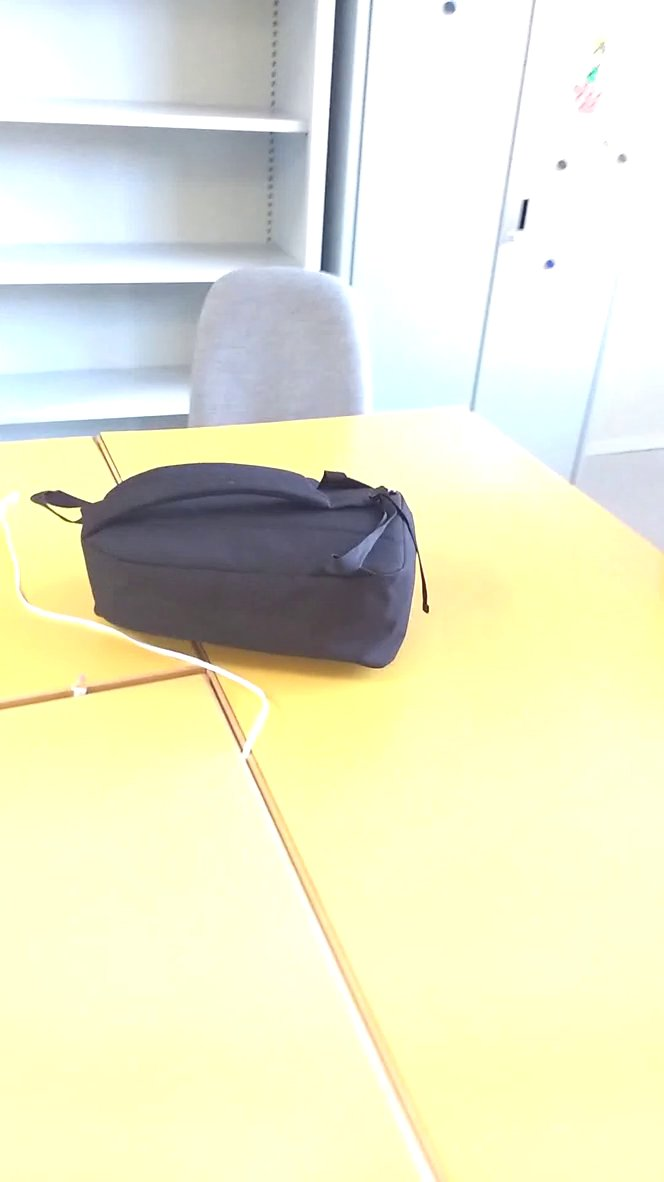bag: (32, 450, 449, 703)
chair: (169, 259, 424, 450)
